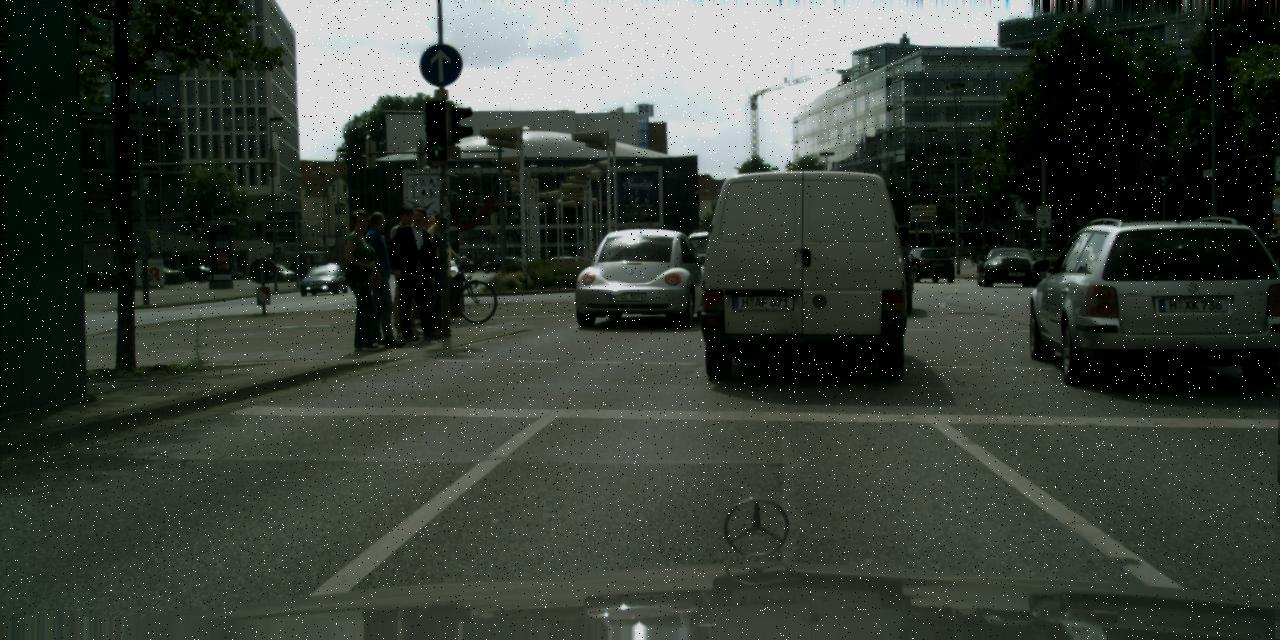ped: (334, 208, 391, 347), (392, 206, 446, 340), (354, 212, 408, 346), (382, 205, 434, 335), (414, 210, 464, 334), (412, 214, 451, 311), (1262, 228, 1276, 258), (1021, 242, 1030, 264), (1012, 240, 1021, 261), (982, 243, 991, 263), (1028, 242, 1034, 254), (971, 246, 976, 260)
